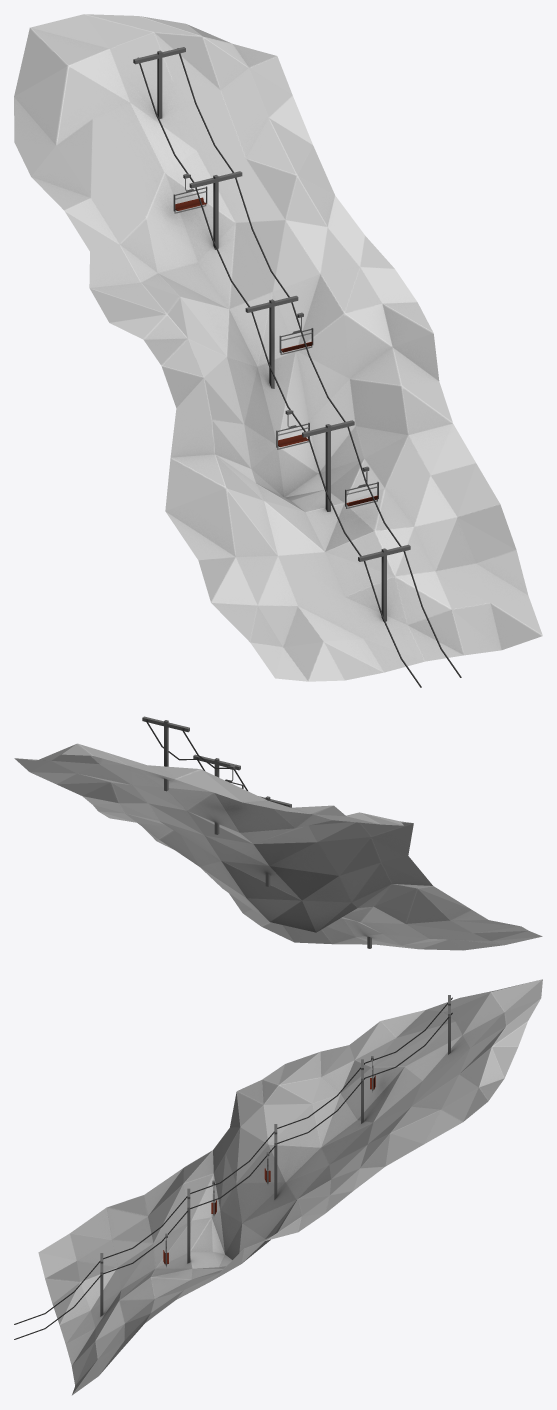
File: Chairlift.obj
3 views of the same model, one above another, from view 1: azimuth 30°, elevation 25°; view 2: azimuth 150°, elevation 25°; view 3: azimuth 270°, elevation 25° (orthographic). The views are drawn at different scales.
Visible parts, largest first — view 1: Chairlift_mesh; view 2: Chairlift_mesh; view 3: Chairlift_mesh.
Part boxes in pixels (left/top/right/bottom): Chairlift_mesh: left=14, top=14, right=542, bottom=687; Chairlift_mesh: left=14, top=716, right=542, bottom=950; Chairlift_mesh: left=14, top=979, right=542, bottom=1395.
Size of the model in its own units: 19.14 by 24.69 by 34.27.
1 material, 1 textured.
